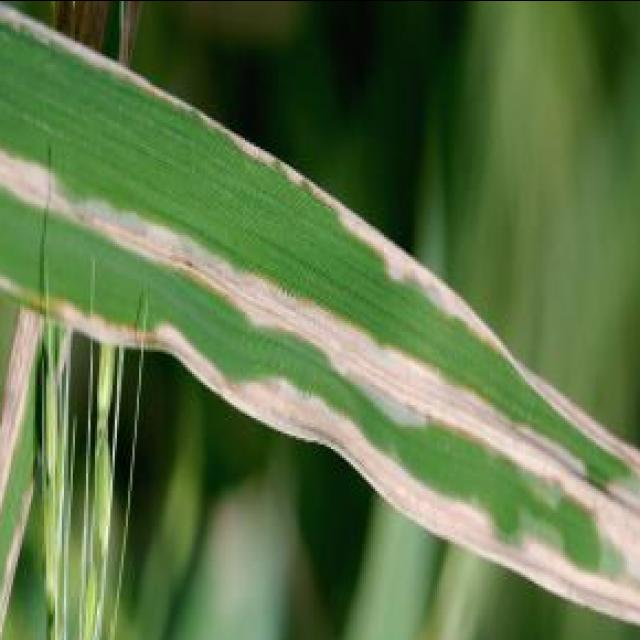Bacterial_Leaf_Blight: (0, 125, 501, 398)
